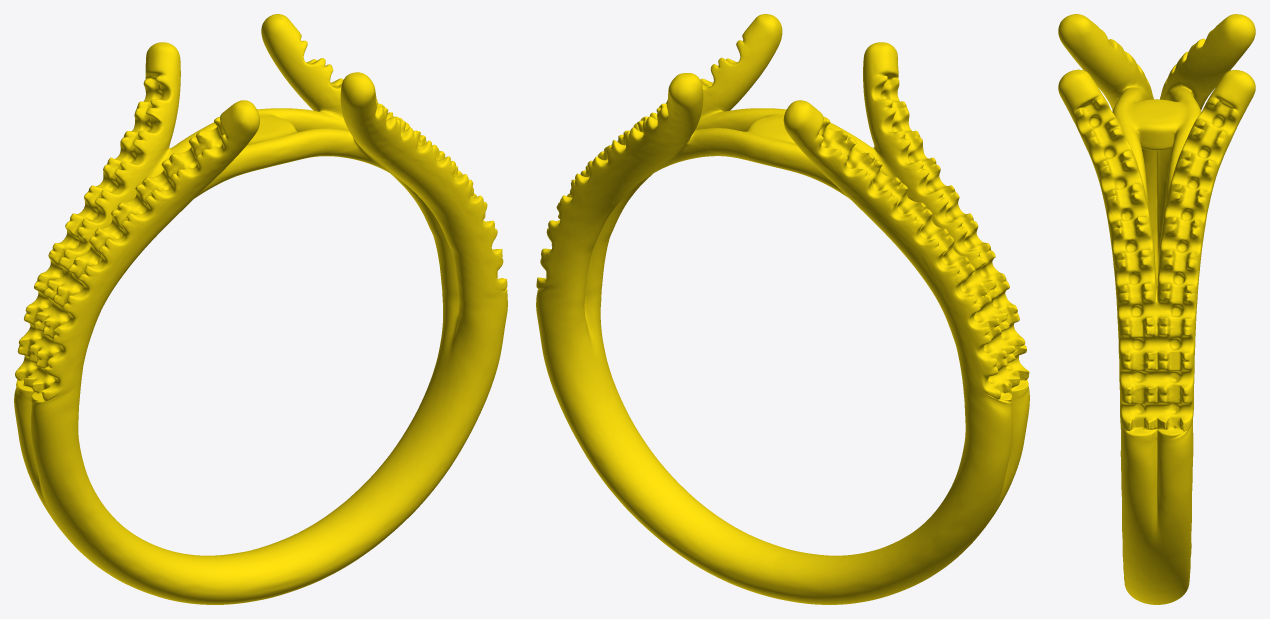
The model's file is Shank_Two row split_U Prong_B_No, Hidden Halo_Band.glb.
The picture shows the model from 3 angles, left to right: view 1: azimuth 30°, elevation 25°; view 2: azimuth 150°, elevation 25°; view 3: azimuth 270°, elevation 25°; orthographic projection.
Size of the model in its own units: 0.0212 by 0.023 by 0.0077.
